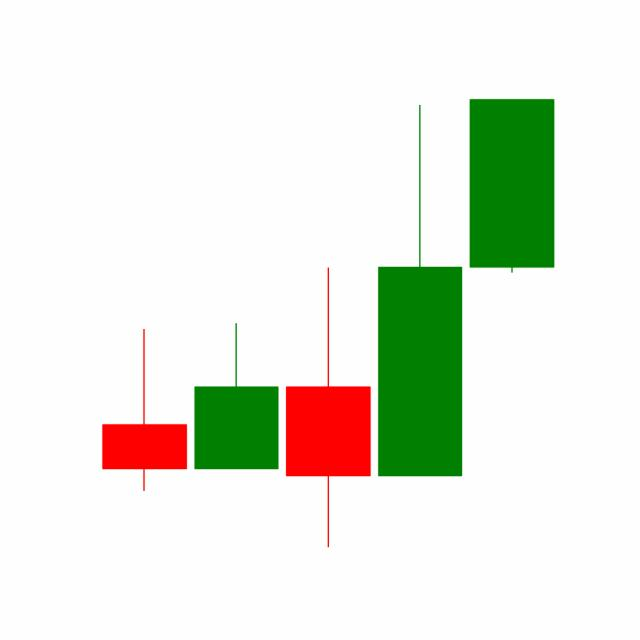Marubozu: (464, 96, 558, 275)
